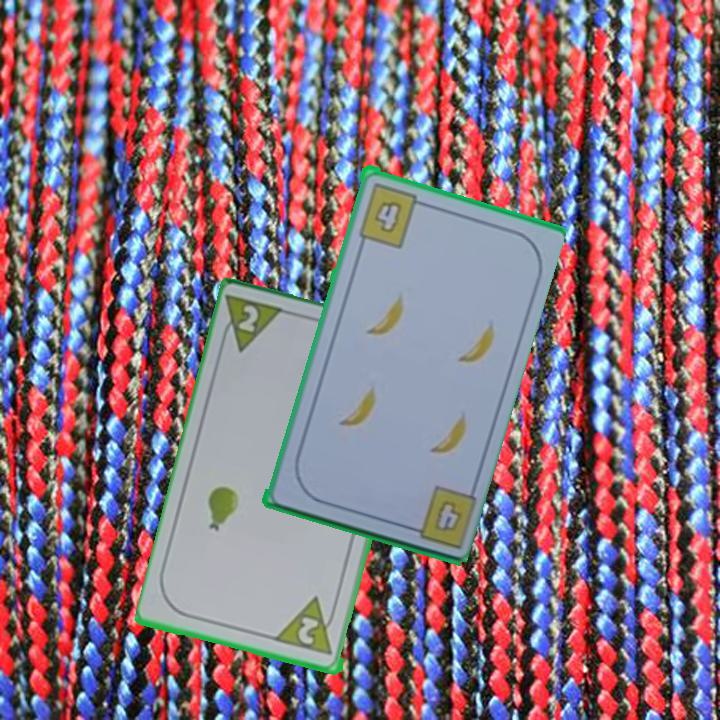2p: (216, 291, 290, 356), (294, 613, 322, 648)
4b: (400, 481, 477, 551), (354, 178, 428, 250)
